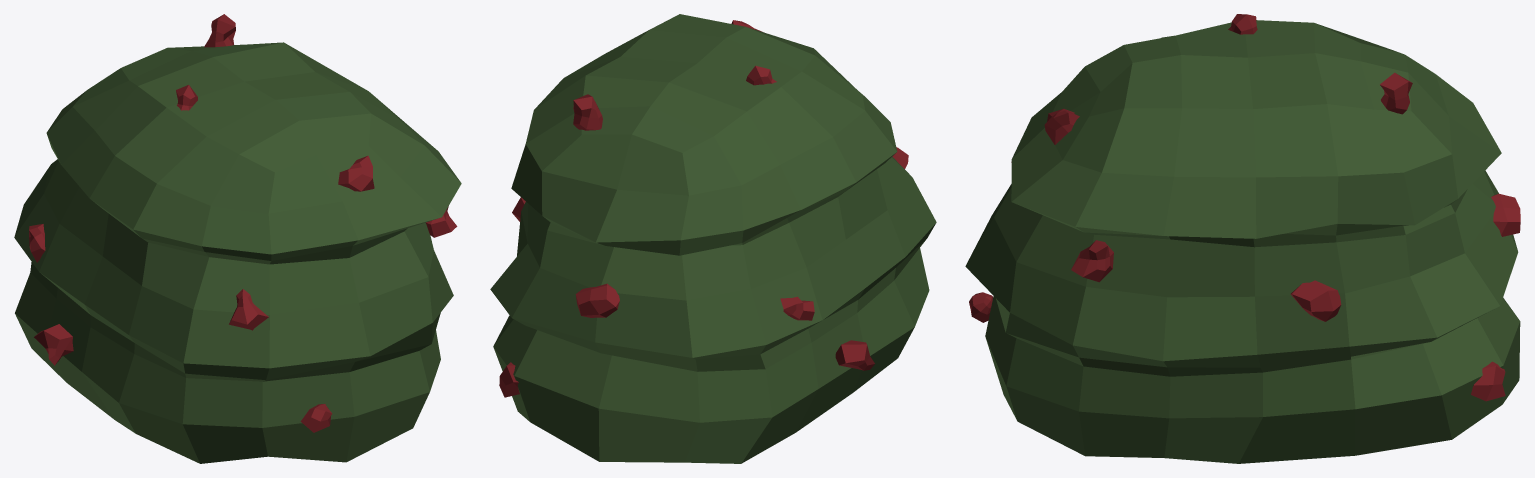
The model's file is bush_berries.fbx.
3 views of the same model, side by side, from view 1: azimuth 30°, elevation 25°; view 2: azimuth 150°, elevation 25°; view 3: azimuth 270°, elevation 25° (orthographic). The views are drawn at different scales.
Parts seen in each view (by area): view 1: bush_berries; view 2: bush_berries; view 3: bush_berries.
Boxes of the visible parts, <box> form: bush_berries: <box>14,14,461,463</box>; bush_berries: <box>490,14,936,463</box>; bush_berries: <box>965,14,1520,463</box>.
Bounding box in the file's own units: 1.39 × 1.28 × 1.72.
